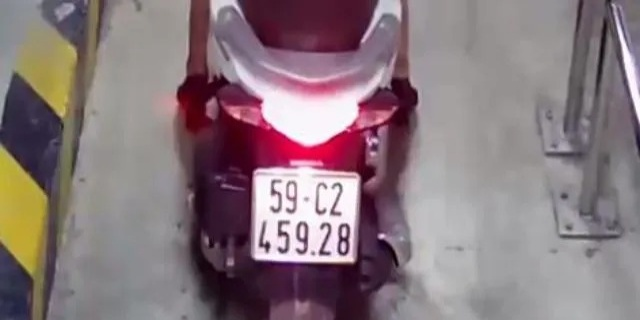bien_so: (252, 170, 358, 262)
